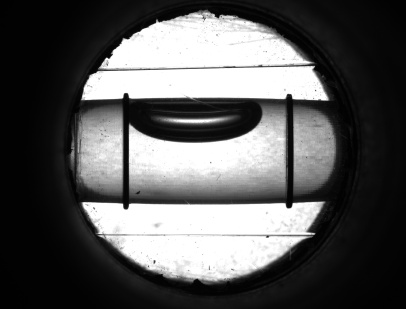line: (279, 115, 299, 187), (119, 137, 132, 188)
